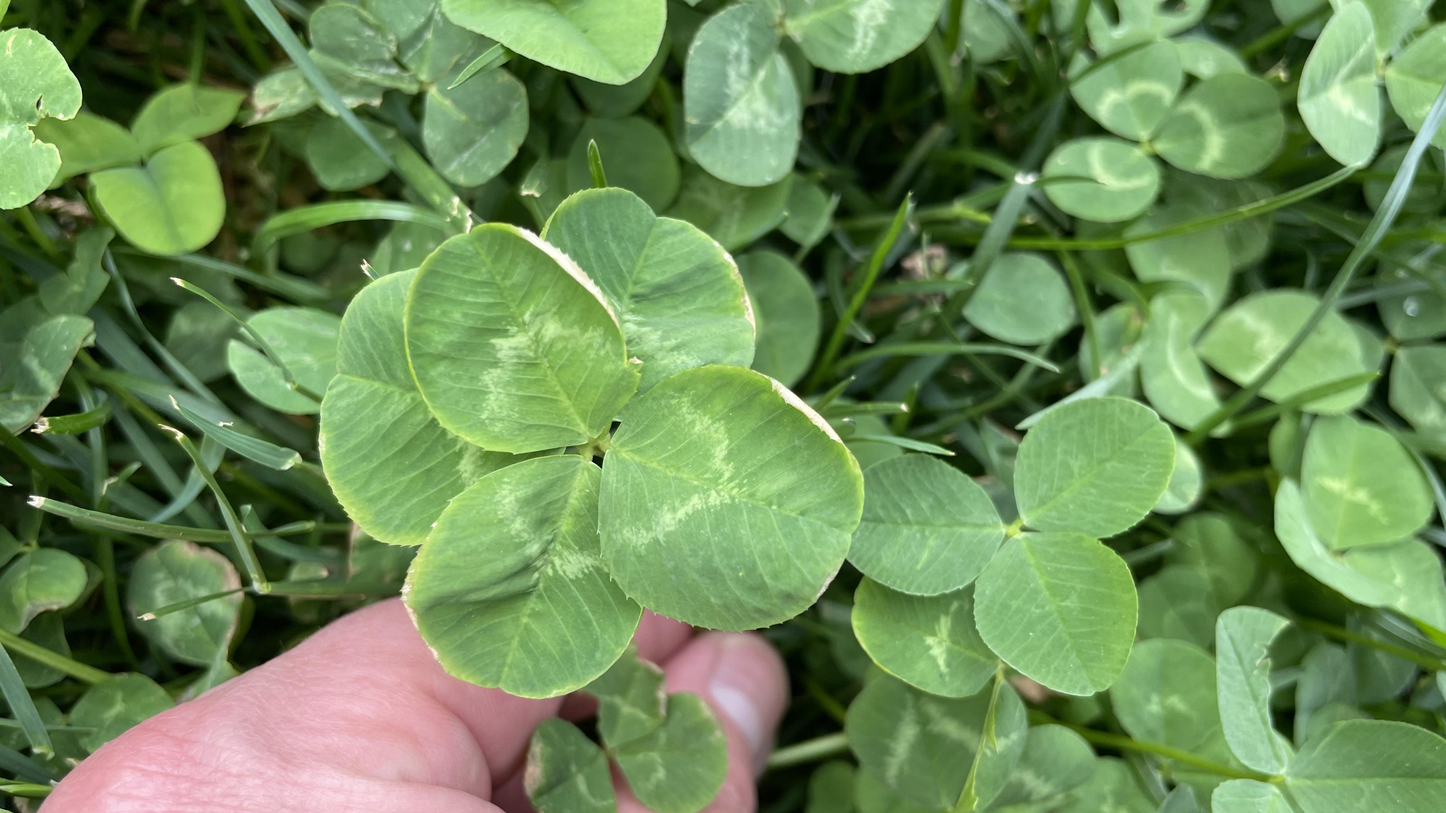5-Leaf-Clovers: (342, 322, 1243, 637)
